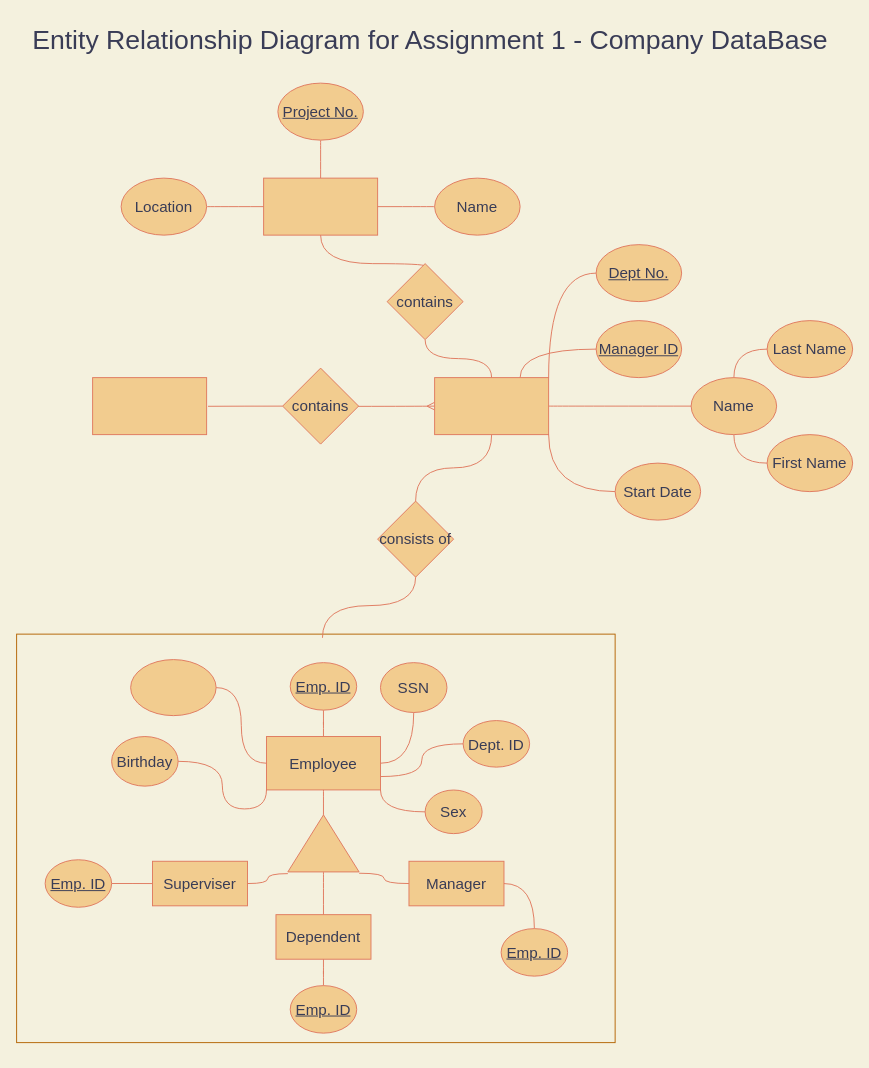
The diagram is 869 pixels wide and 1068 high, and some of its shapes have lost their labels. Each missing label, with the box of its shape:
Company: (92, 377, 207, 435)
Department: (434, 377, 549, 435)
Hours per week: (130, 659, 216, 716)
is a: (287, 814, 359, 872)
Projects: (263, 177, 378, 235)
